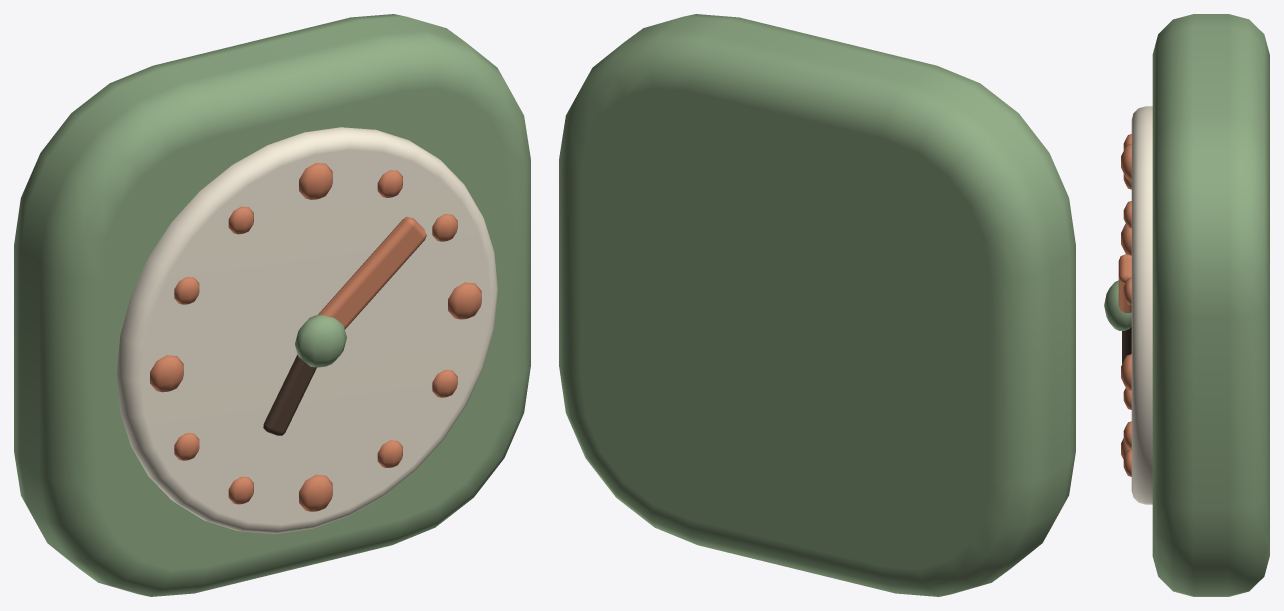
The model's file is 07-wall-clock.glb.
3 views of the same model, side by side, from view 1: azimuth 30°, elevation 25°; view 2: azimuth 150°, elevation 25°; view 3: azimuth 270°, elevation 25° (orthographic). The views are drawn at different scales.
Visible parts, largest first — view 1: 07-wall-clock_mesh; view 2: 07-wall-clock_mesh; view 3: 07-wall-clock_mesh.
Part boxes in pixels (x1,y1,x2,y2): 07-wall-clock_mesh: (14, 14, 530, 596); 07-wall-clock_mesh: (559, 14, 1075, 596); 07-wall-clock_mesh: (1104, 14, 1269, 596).
Size of the model in its own units: 0.44 by 0.44 by 0.1414.
